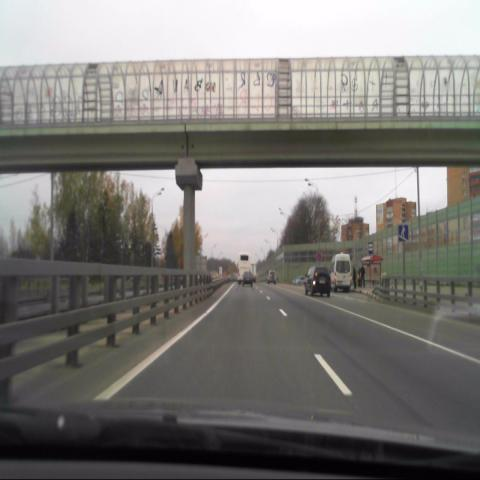6_7: (399, 224, 408, 241)
